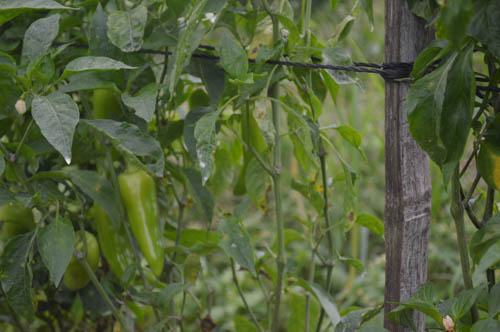ChiliPepper: (117, 170, 163, 273), (91, 189, 132, 277), (65, 231, 100, 290)
